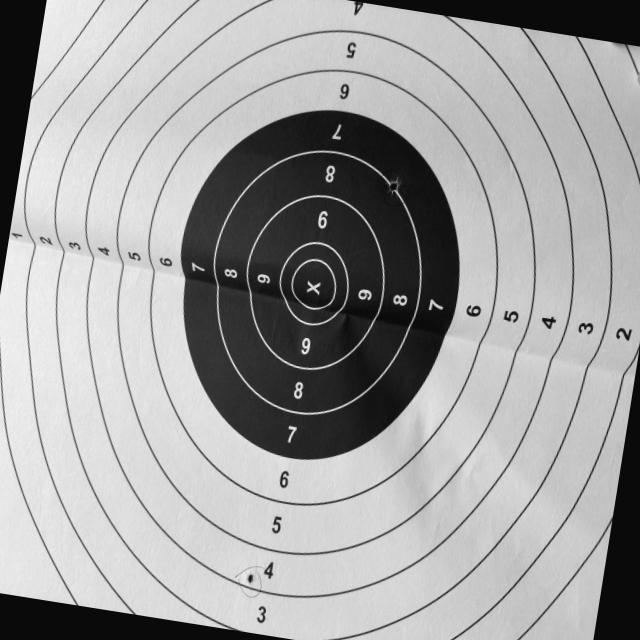bullet: (386, 178, 401, 194), (246, 577, 254, 584)
target: (0, 0, 640, 640)
